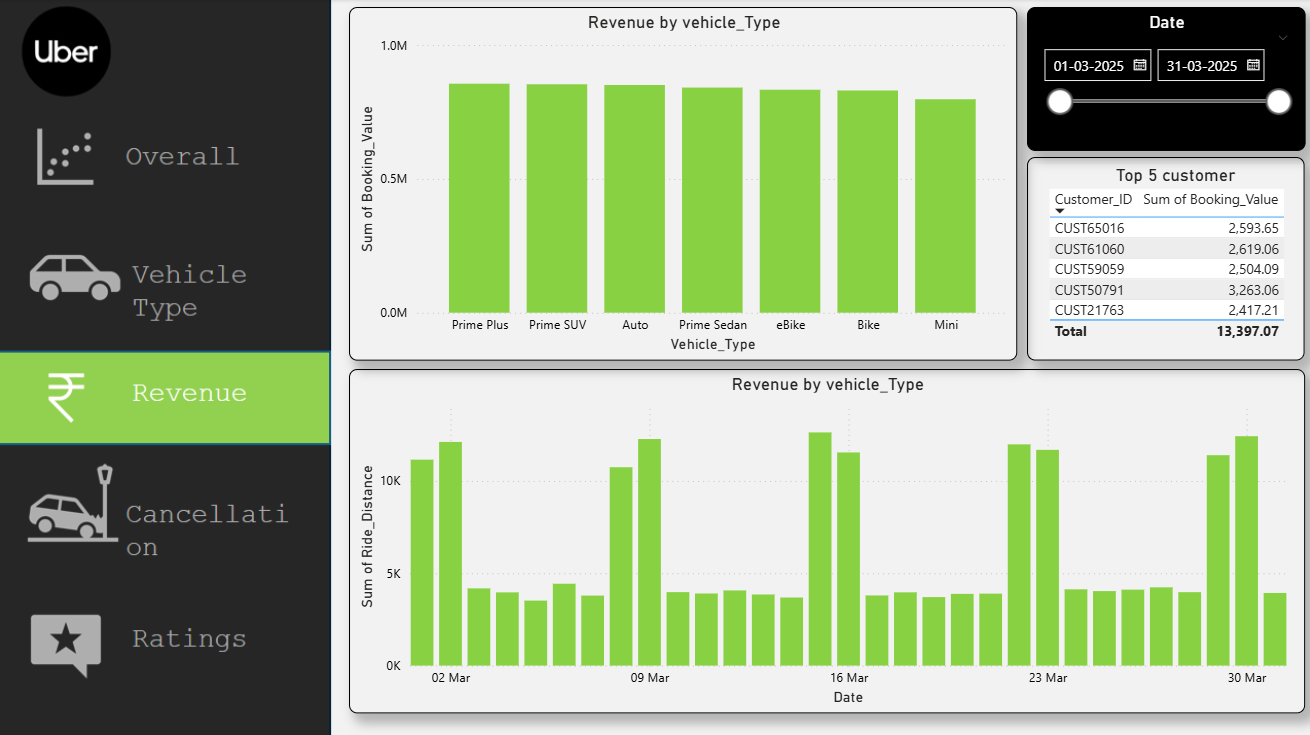

What the dashboard file says about the page in this screenshot:
{"tool":"powerbi","page":{"name":"Revenue","canvas":[1280,720],"ordinal":2},"visuals":[{"type":"actionButton","box":[0,230.5,324.9,94.3],"z":0},{"type":"actionButton","box":[0,105.5,324.5,95.8],"z":1000},{"type":"actionButton","box":[0,445.1,324.5,102],"z":2000},{"type":"actionButton","box":[0,577.2,324.5,94],"z":3000},{"type":"columnChart","title":"Revenue by vehicle_Type","fields":{"Y":["Sum(Sheet1 (2).Booking_Value)"],"Category":["Sheet1 (2).Vehicle_Type"]},"box":[341.4,7.9,650.3,344.4],"z":4000},{"type":"columnChart","title":"Revenue by vehicle_Type","fields":{"Y":["Sum(Sheet1 (2).Ride_Distance)"],"Category":["Sheet1 (2).Date"]},"box":[341.4,360.1,929.7,335.5],"z":5000},{"type":"slicer","title":"Date","fields":{"Values":["Sheet1 (2).Date"]},"box":[1000.6,7.9,270.6,139.7],"z":6000},{"type":"tableEx","title":"Top 5 customer","fields":{"Values":["Sheet1 (2).Customer_ID","Sum(Sheet1 (2).Booking_Value)"]},"box":[1000.9,153.7,270.4,198.4],"z":7000}]}

Visuals, with their boxes on the page's 1280x720 design canvas (x1, y1, x2, y2). These are canvas units, not pixel positions in the 1310x735 screenshot, which may show the page scaled, cropped or inside an application window:
actionButton: [0,230,325,325]
actionButton: [0,106,324,201]
actionButton: [0,445,324,547]
actionButton: [0,577,324,671]
"Revenue by vehicle_Type" columnChart: [341,8,992,352]
"Revenue by vehicle_Type" columnChart: [341,360,1271,696]
"Date" slicer: [1001,8,1271,148]
"Top 5 customer" tableEx: [1001,154,1271,352]
